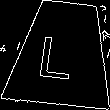L_N: (41, 27, 84, 80)
